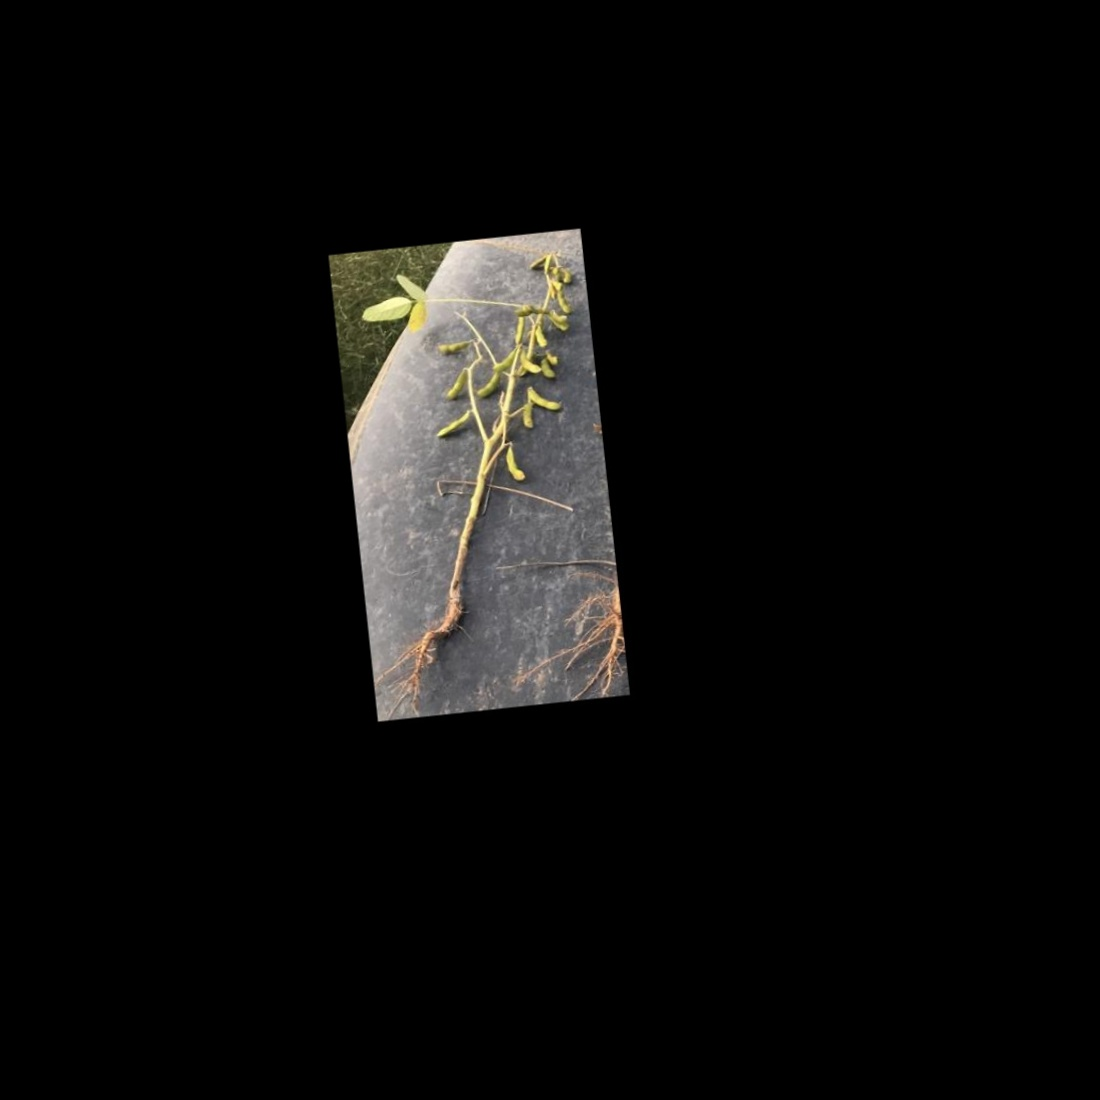pod: (501, 438, 534, 484), (438, 363, 470, 404), (432, 407, 473, 437), (528, 383, 564, 414), (430, 333, 476, 357), (485, 343, 522, 371), (471, 369, 504, 400), (508, 315, 529, 348), (532, 322, 552, 351), (518, 402, 536, 433), (557, 291, 577, 316)
soy: (352, 238, 615, 684)
